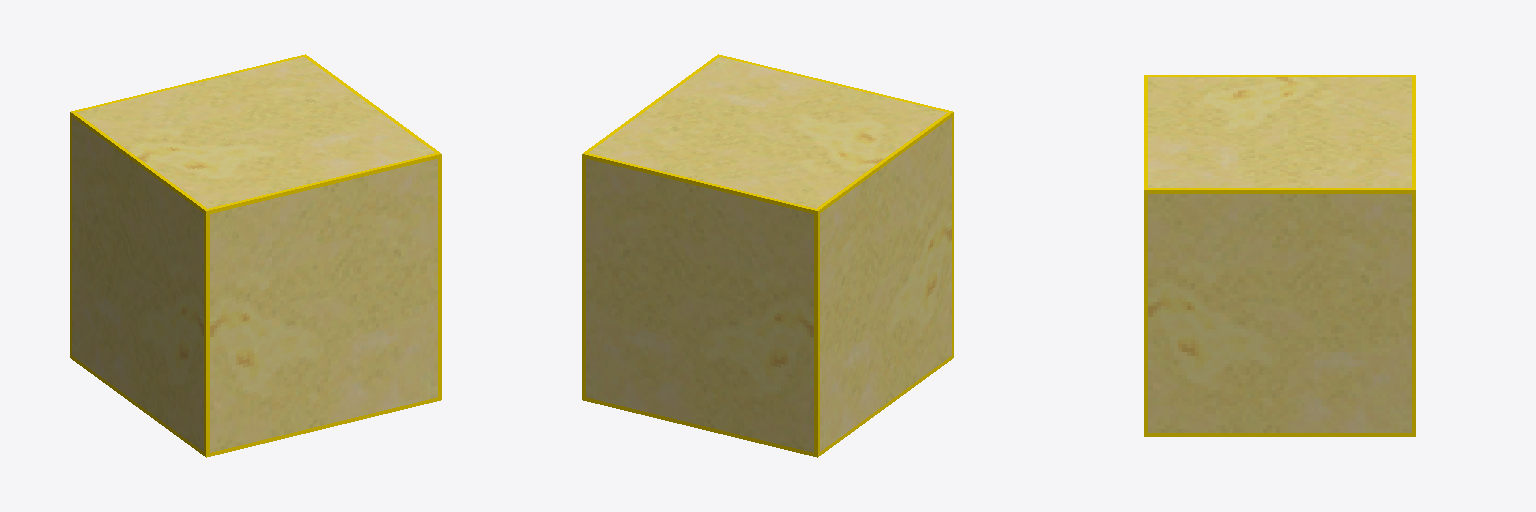
3 views of the same model, side by side, from view 1: azimuth 30°, elevation 25°; view 2: azimuth 150°, elevation 25°; view 3: azimuth 270°, elevation 25° (orthographic).
Visible parts, largest first — view 1: Cube; view 2: Cube; view 3: Cube.
Part boxes in pixels (x1,y1,x2,y2): Cube: (70,54,441,457); Cube: (582,54,953,457); Cube: (1144,75,1415,436).
Size of the model in its own units: 2 by 2 by 2.
1 materials, 1 textured.